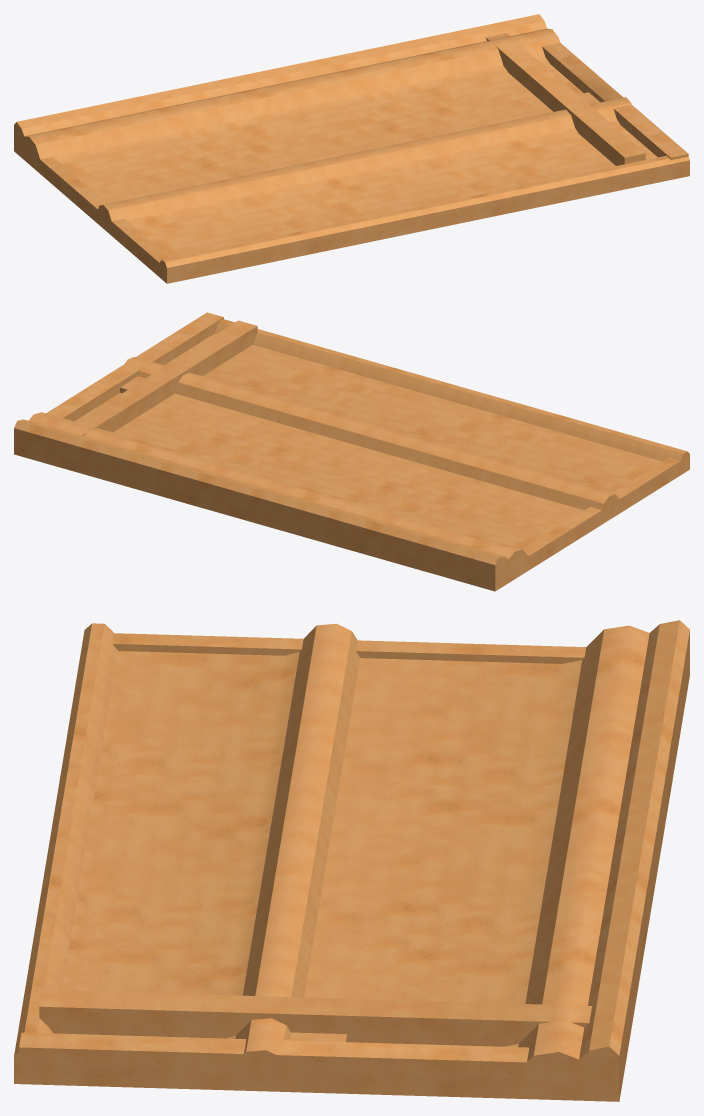
Rendered from telha_23_04_web.glb.
3 renders of one model, top to bottom at view 1: azimuth 30°, elevation 25°; view 2: azimuth 150°, elevation 25°; view 3: azimuth 270°, elevation 25°, orthographic. The views are drawn at different scales.
Visible parts, largest first — view 1: Telha_Francesa; view 2: Telha_Francesa; view 3: Telha_Francesa.
Part boxes in pixels (box(x1,y1,x2,y2)): Telha_Francesa: box(14, 14, 689, 283); Telha_Francesa: box(14, 312, 689, 591); Telha_Francesa: box(14, 620, 689, 1101).
Size of the model in its own units: 0.4158 by 0.024 by 0.2673.
1 material, 1 textured.
